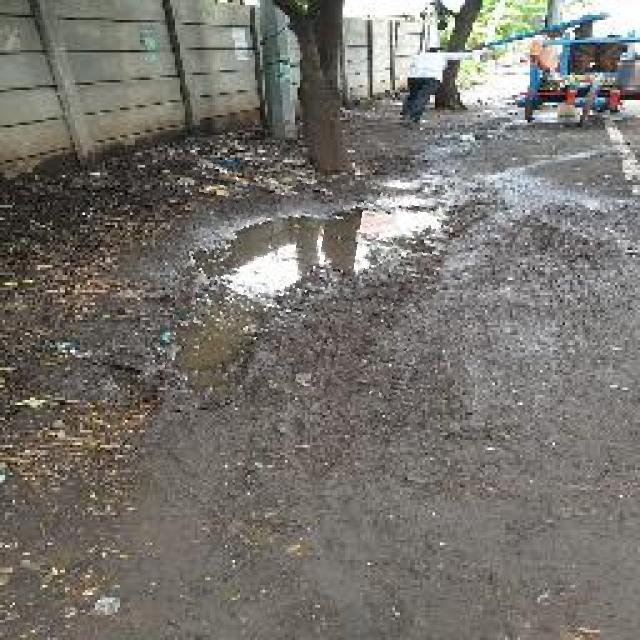puddle: (172, 167, 448, 404)
